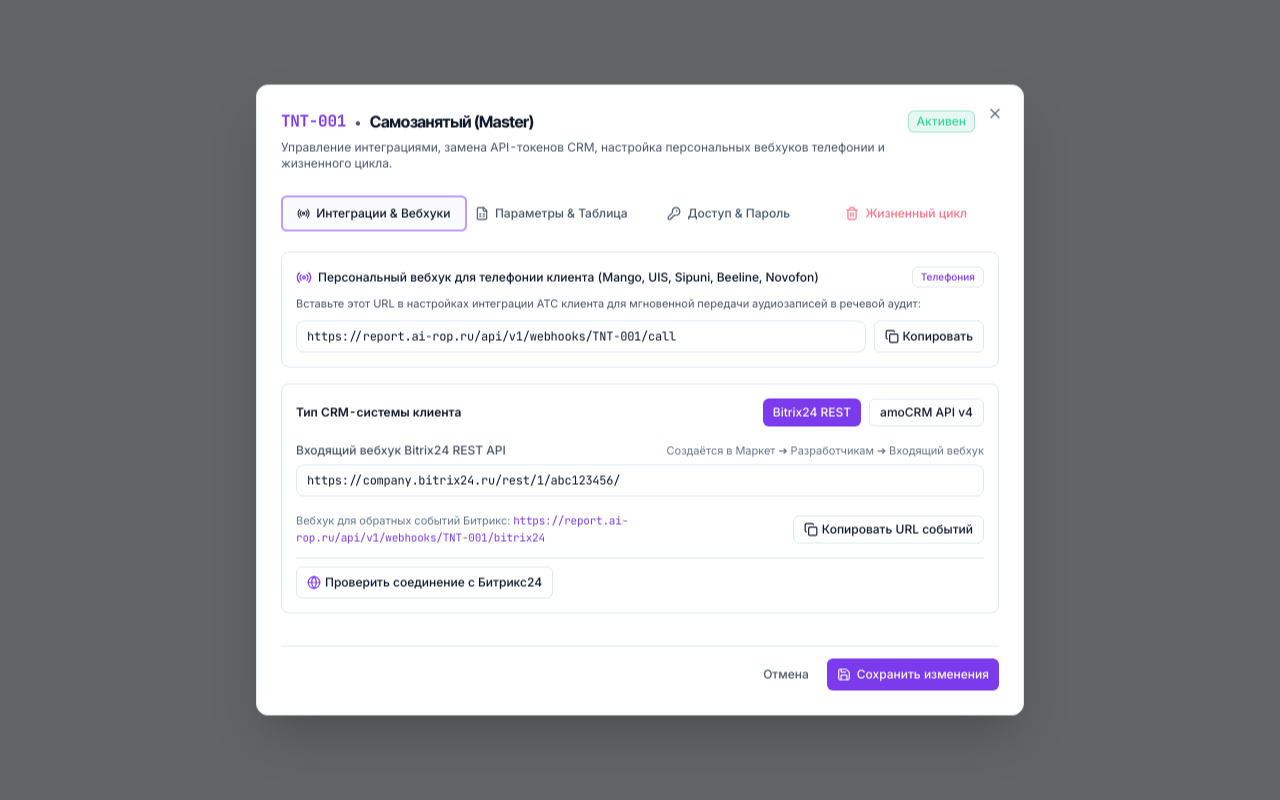
TenantEditModal › tests Bitrix24 CRM connection via adminApi.crmAction
Click the button "Проверить соединение с Битрикс24".
click(424, 582)  # box [296, 566, 553, 598]
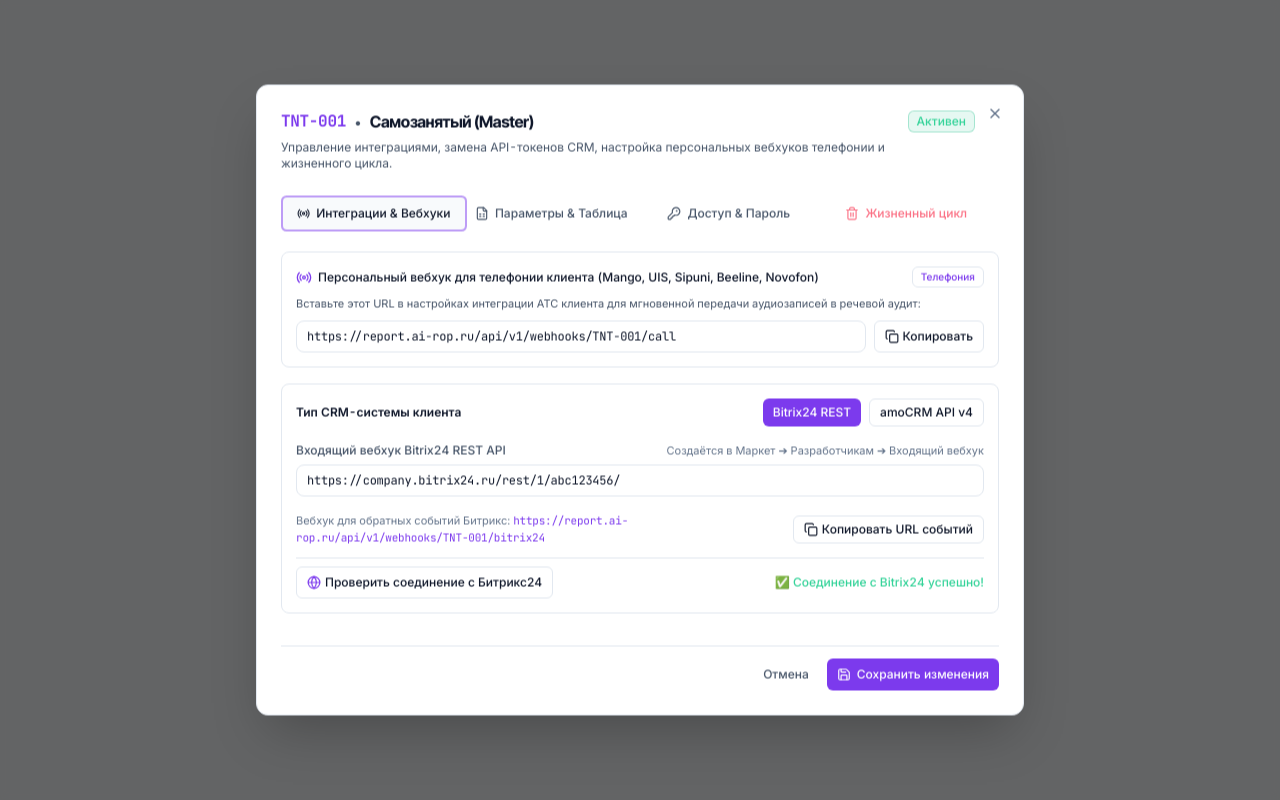
Expected: the text "✅ Соединение с Bitrix24 успешно!" is shown, [775, 574, 984, 590]
